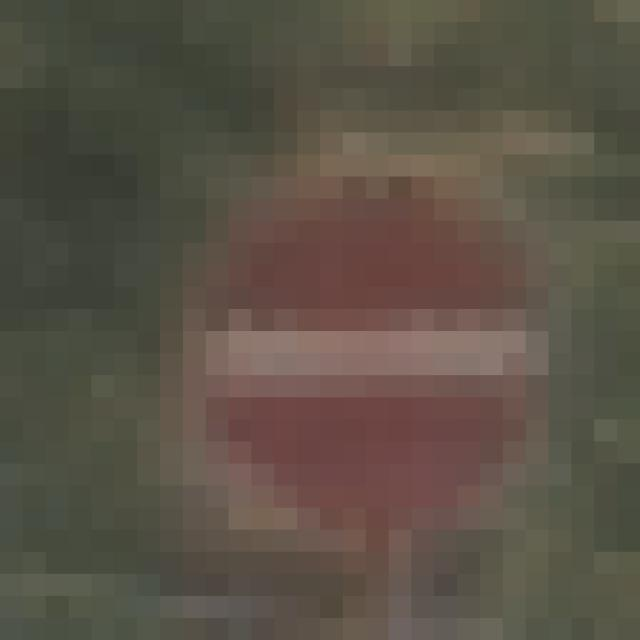No Entry: (138, 112, 504, 509)
